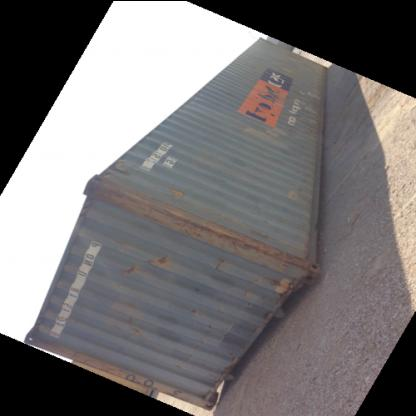Damage: (143, 198, 273, 254), (116, 318, 152, 342), (280, 182, 308, 206), (267, 276, 296, 296), (107, 155, 125, 181), (116, 260, 138, 280), (299, 113, 316, 138), (260, 84, 279, 104), (146, 254, 170, 269), (207, 252, 224, 272), (310, 63, 321, 91), (274, 62, 290, 76), (182, 306, 199, 315)
